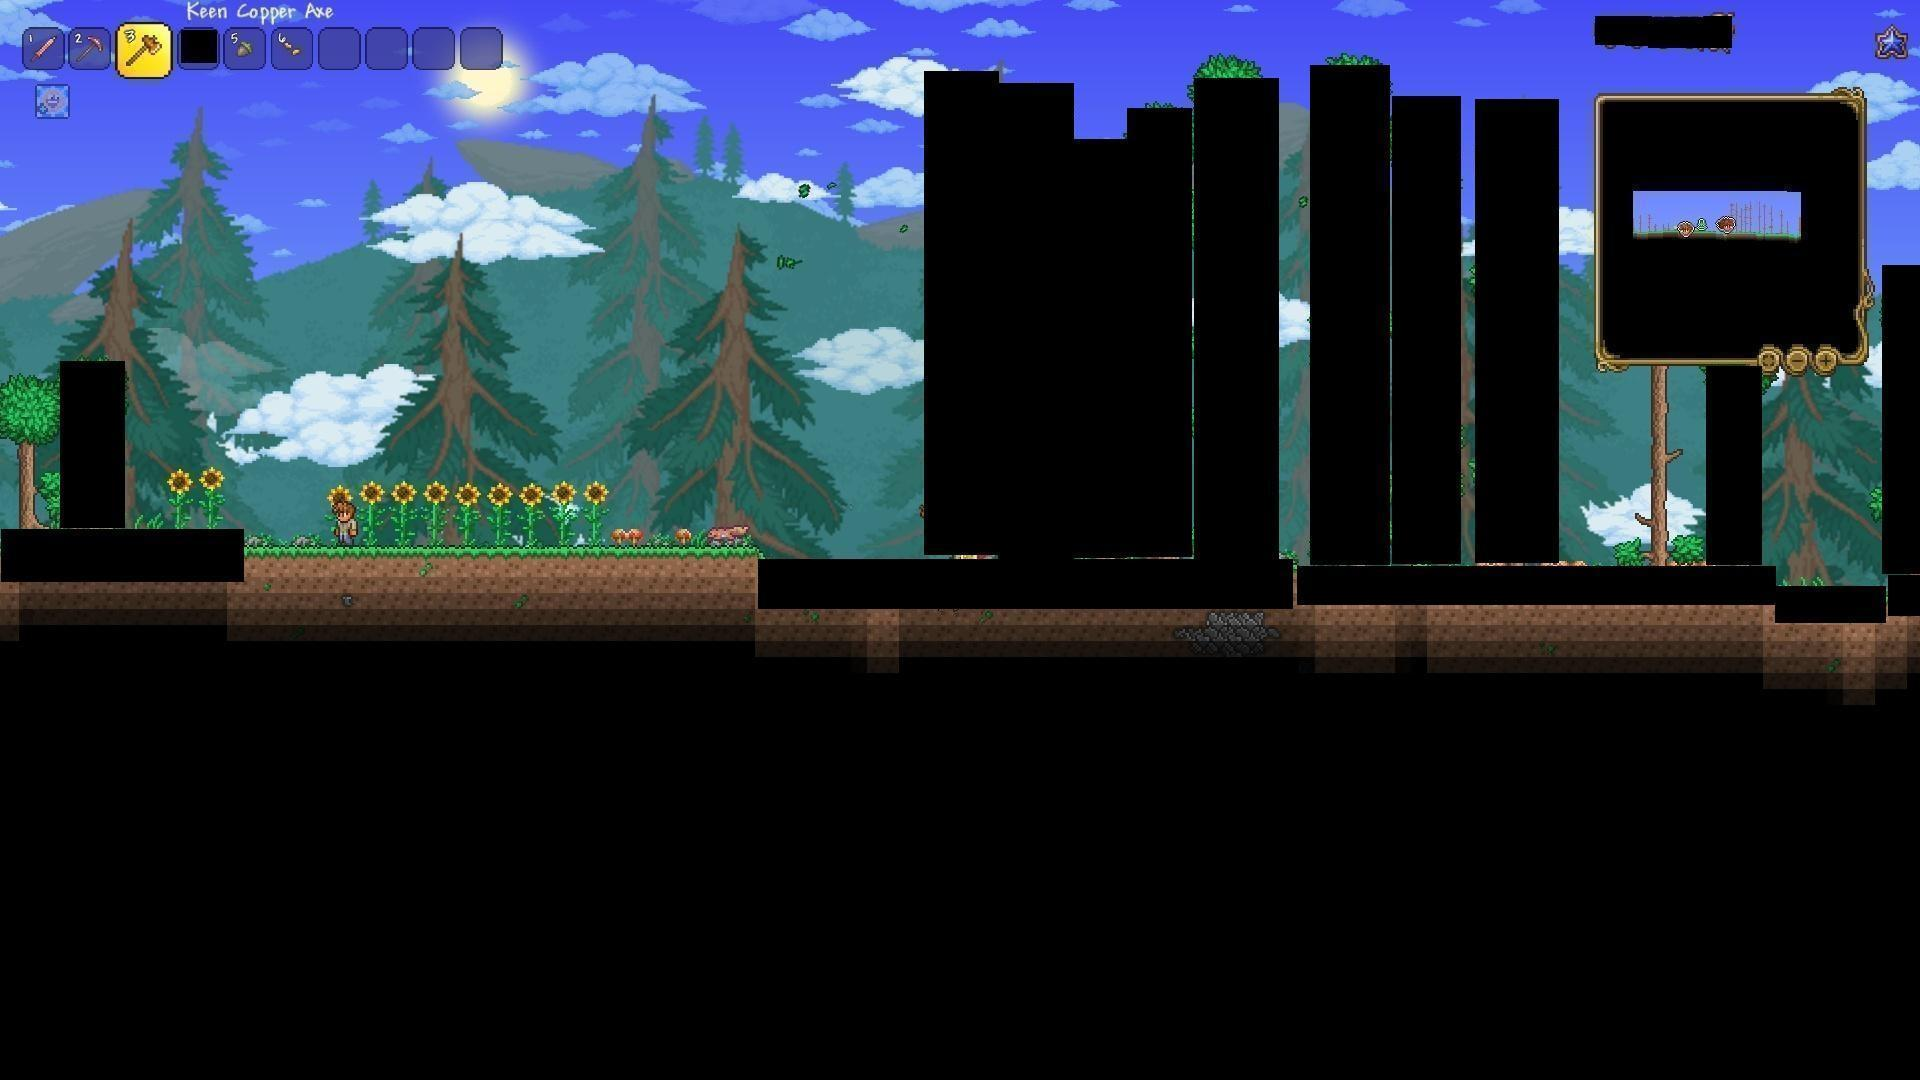dirt: (243, 541, 754, 578)
tree: (1630, 367, 1683, 564), (3, 372, 58, 527)
